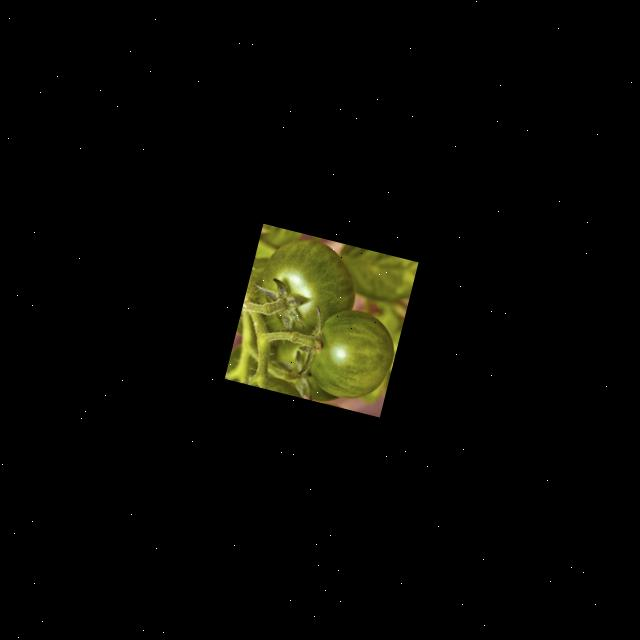tomato: (238, 230, 408, 406)
